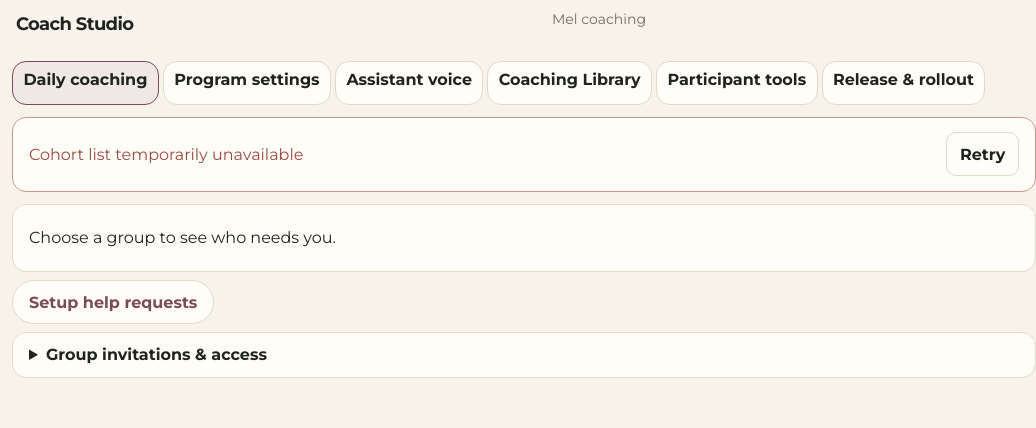
Scenario: coach daily operation and assistant workflow › shows a cohort loading failure and retries from Daily coaching without opening assistant construction
The width and height of the screenshot is (1036, 428).
Expected: the message shows "Cohort list temporarily unavailable", left=29, top=145, right=303, bottom=164
Click the button "Retry" at (983, 154), box left=946, top=132, right=1019, bottom=176
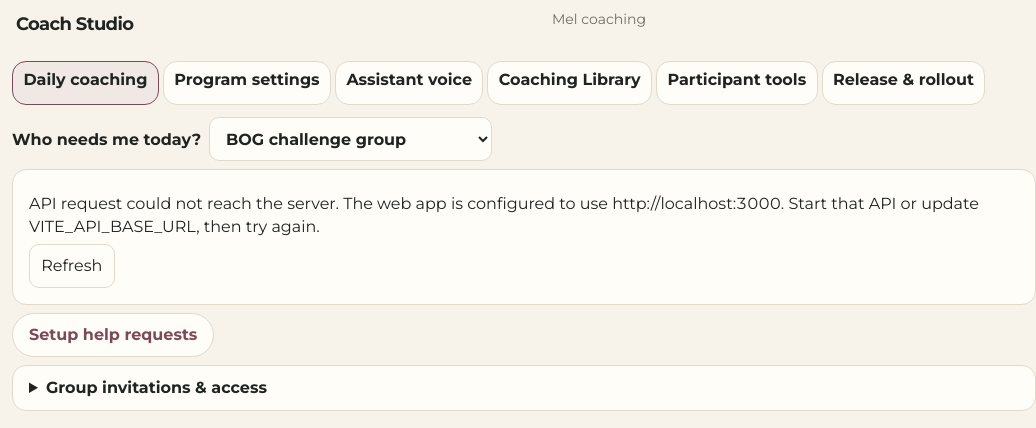
Expected: the dropdown named "Choose a group" is enabled, left=209, top=117, right=492, bottom=161
Expected: the dropdown named "Choose a group" shows "BOG challenge group", left=209, top=117, right=492, bottom=161
